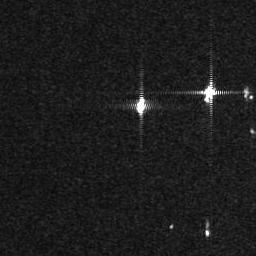ship: (134, 95, 147, 114), (203, 84, 214, 103)
